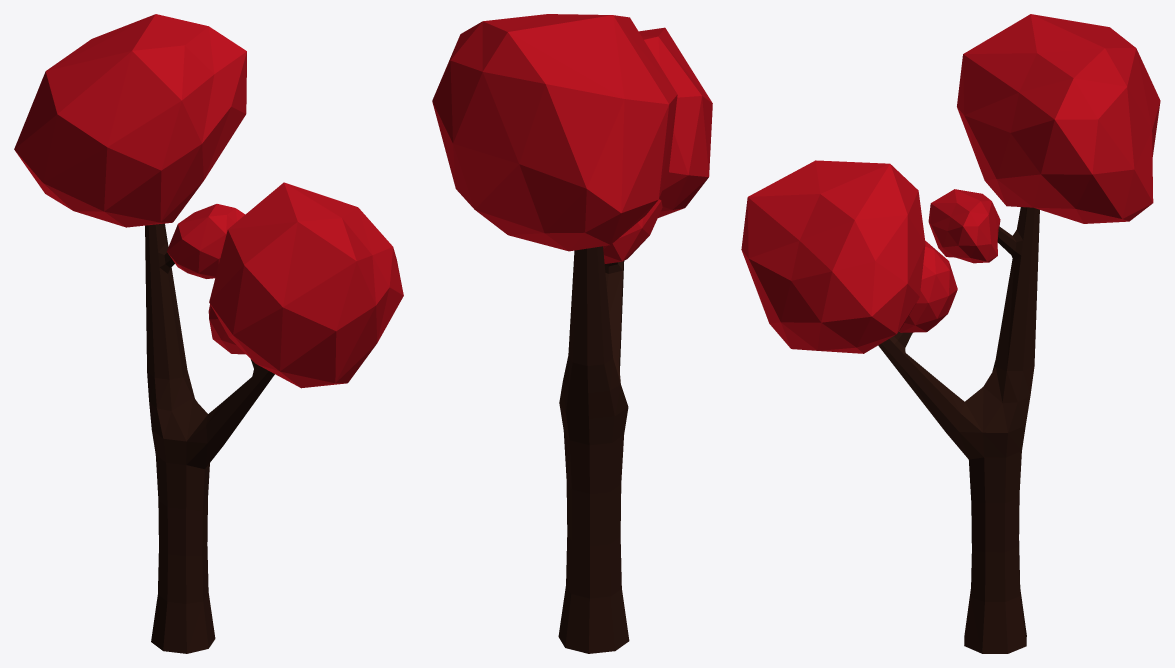
Rendered from t7-purple.obj.
3 renders of one model, left to right at view 1: azimuth 30°, elevation 25°; view 2: azimuth 150°, elevation 25°; view 3: azimuth 270°, elevation 25°, orthographic. The views are drawn at different scales.
Parts seen in each view (by area): view 1: t7-purple_Cylinder.028; view 2: t7-purple_Cylinder.028; view 3: t7-purple_Cylinder.028.
Part boxes in pixels (x1,y1,x2,y2): t7-purple_Cylinder.028: (14, 14, 403, 653); t7-purple_Cylinder.028: (432, 14, 712, 653); t7-purple_Cylinder.028: (741, 14, 1160, 653).
Bounding box in the file's own units: 4.54 × 10.02 × 6.25.
